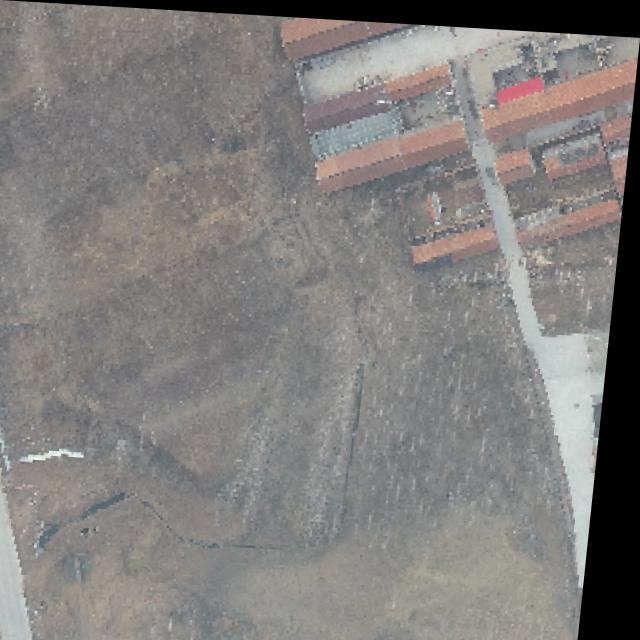Batiment: (484, 53, 634, 136), (307, 59, 450, 126), (282, 14, 409, 56), (523, 191, 625, 241), (320, 132, 408, 189), (402, 115, 470, 162), (418, 219, 500, 257), (545, 125, 608, 173), (390, 58, 451, 96), (498, 142, 539, 178), (603, 107, 632, 136), (611, 139, 627, 187)
